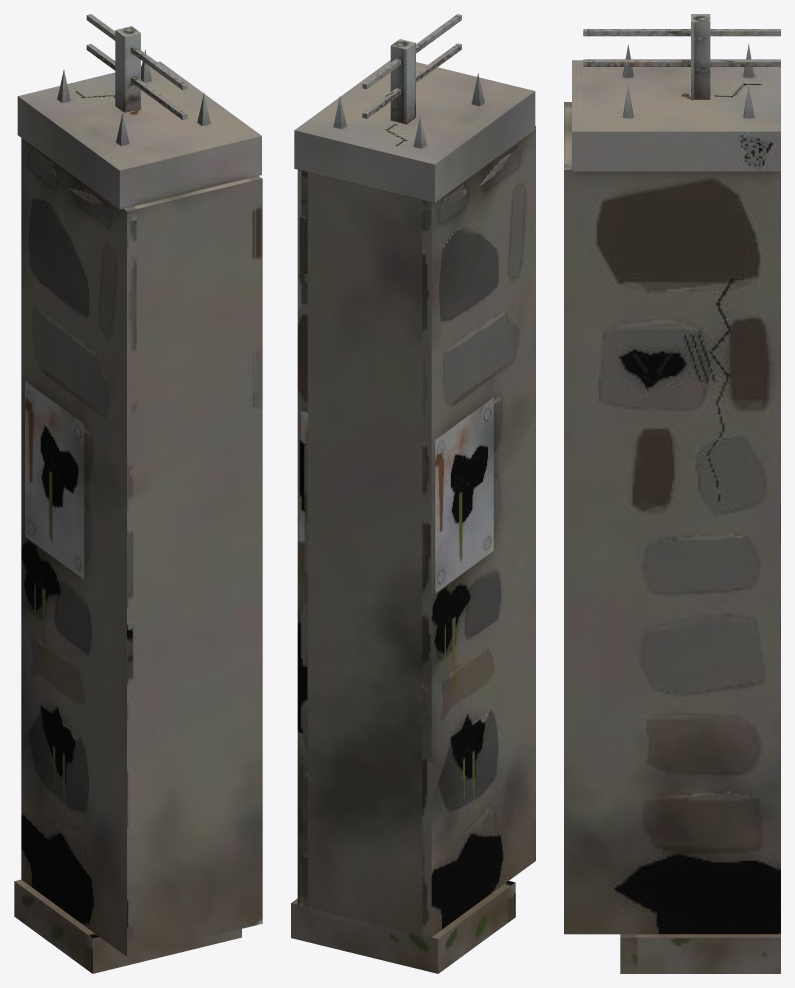
File: muro_lado.glb
The picture shows the model from 3 angles, left to right: view 1: azimuth 30°, elevation 25°; view 2: azimuth 150°, elevation 25°; view 3: azimuth 270°, elevation 25°; orthographic projection. The views are drawn at different scales.
Parts seen in each view (by area): view 1: muro_lado_corpo; view 2: muro_lado_corpo; view 3: muro_lado_corpo.
Boxes of the visible parts, x1,y1,x2,y2 form: muro_lado_corpo: (14, 14, 262, 973); muro_lado_corpo: (291, 14, 535, 973); muro_lado_corpo: (564, 14, 780, 973).
Size of the model in its own units: 0.22 by 1.26 by 0.27.
Materials: 1 (1 with a texture image).
